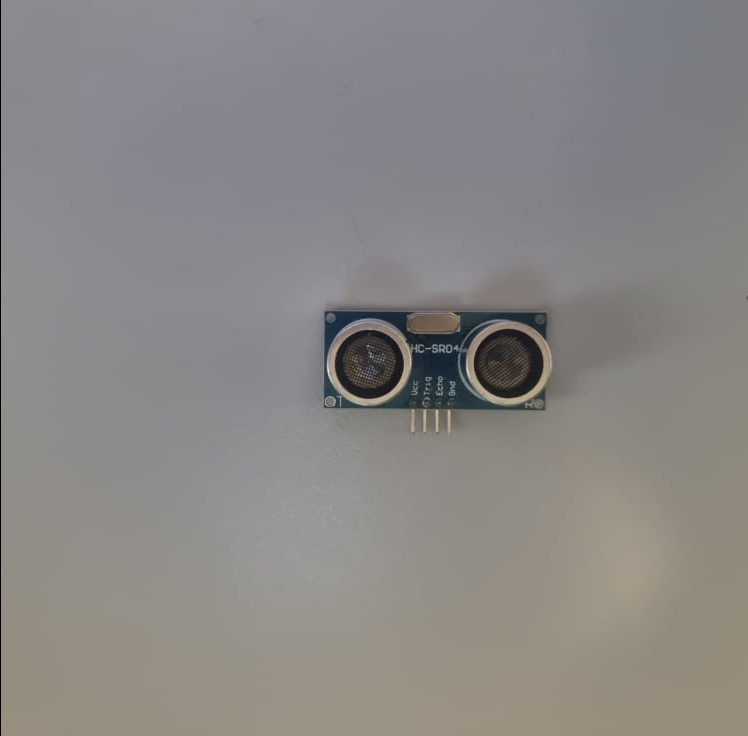SENSOR: (319, 307, 548, 413)
